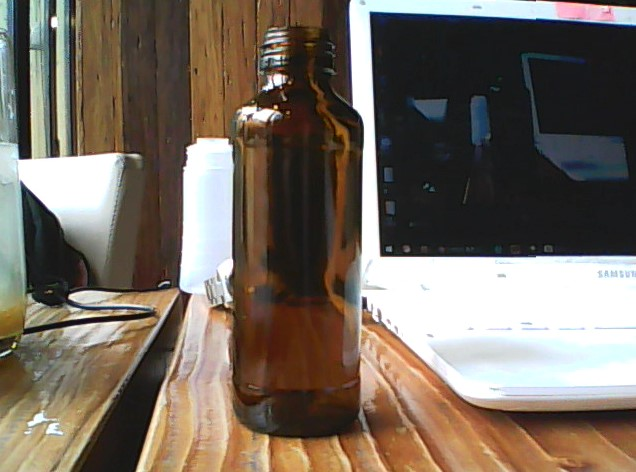Glass: (228, 18, 369, 445)
